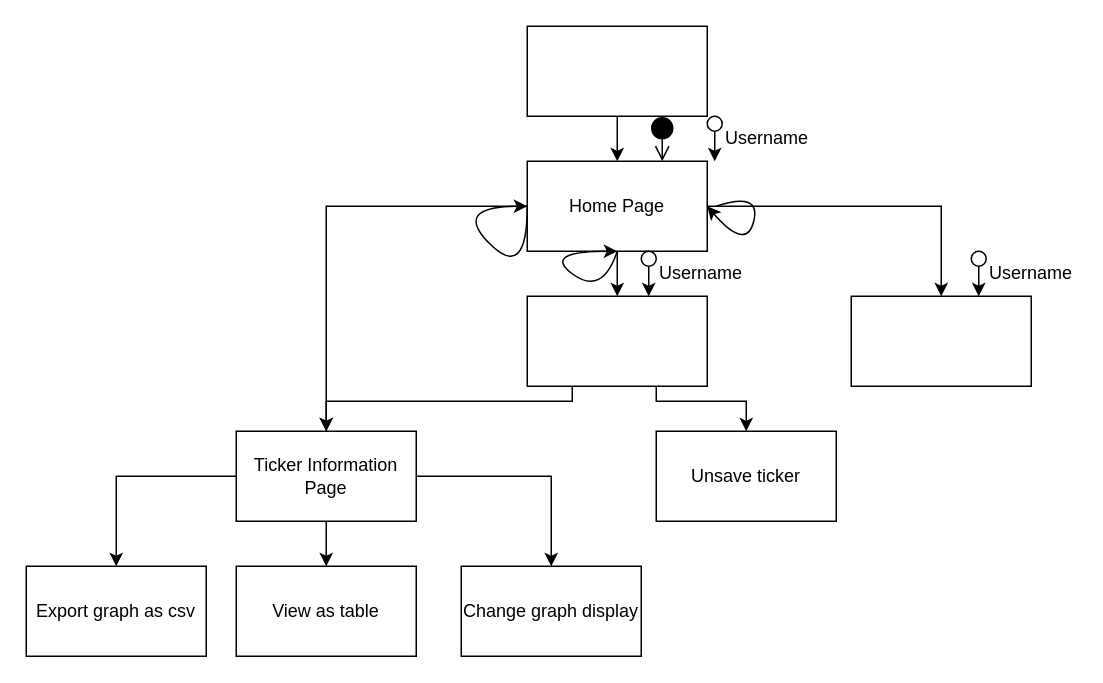
Image size: 1103x683. Some labels were removed from this diagram. Here are the shapes that lost their labels. From the top down, the centre of each, then its label:
At [616,70]: "Login Page".
At [616,340]: "Saved Tickers Page".
At [940,340]: "News Page".
